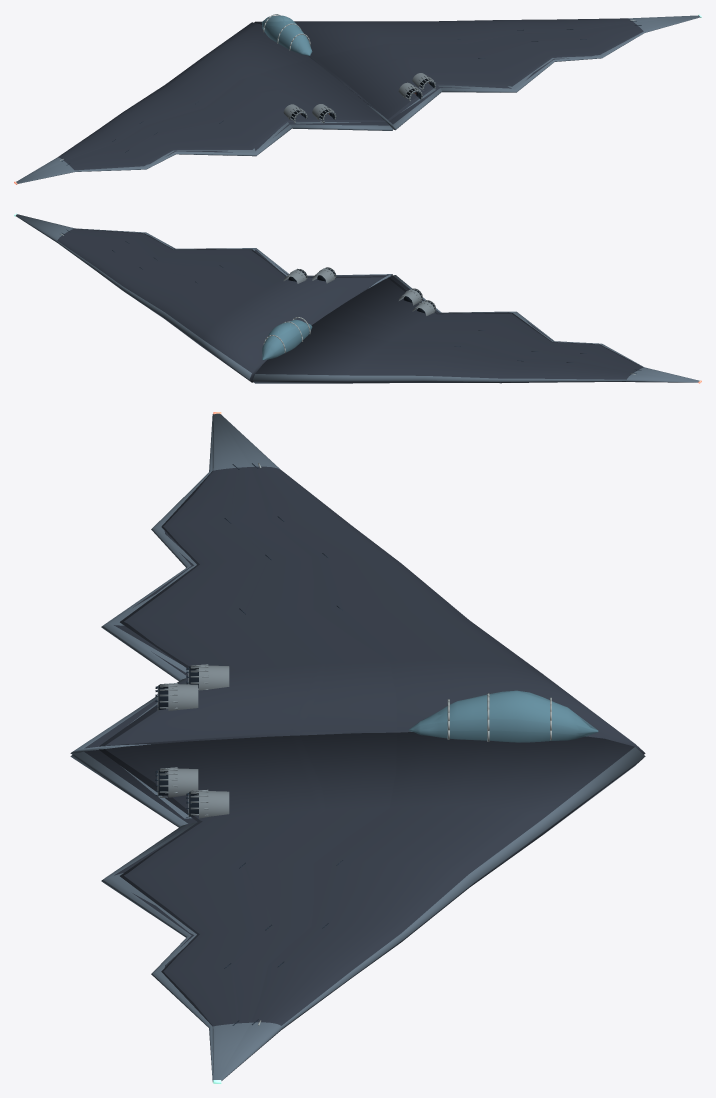
3 renders of one model, top to bottom at view 1: azimuth 30°, elevation 25°; view 2: azimuth 150°, elevation 25°; view 3: azimuth 270°, elevation 25°, orthographic. The views are drawn at different scales.
Parts seen in each view (by area): view 1: Airframe shell.001 mesh, Airframe shell mesh, Airframe shell.002 mesh, Hinged Aileron.001, Hinged Aileron, Canopy glass, Canopy glass.001, Canopy glass.002; view 2: Airframe shell mesh, Airframe shell.001 mesh, Airframe shell.002 mesh, Canopy glass, Canopy glass.001, Canopy glass.002, Hinged Aileron.001, Hinged Aileron; view 3: Airframe shell.001 mesh, Airframe shell mesh, Airframe shell.002 mesh, Canopy glass, Canopy glass.001, Canopy glass.002, Hinged Aileron, Hinged Aileron.001.
Part boxes in pixels (x1,y1,x2,y2): Airframe shell.001 mesh: (17, 15, 699, 183); Airframe shell mesh: (14, 14, 701, 184); Airframe shell.002 mesh: (21, 16, 698, 182); Hinged Aileron.001: (438, 17, 700, 92); Hinged Aileron: (17, 122, 291, 183); Canopy glass: (262, 15, 311, 55); Canopy glass.001: (262, 16, 311, 55); Canopy glass.002: (262, 16, 311, 55); Airframe shell mesh: (14, 213, 701, 383); Airframe shell.001 mesh: (17, 214, 699, 381); Airframe shell.002 mesh: (26, 216, 697, 382); Canopy glass: (262, 319, 312, 359); Canopy glass.001: (262, 320, 311, 359); Canopy glass.002: (262, 320, 310, 360); Hinged Aileron.001: (41, 220, 288, 275); Hinged Aileron: (439, 311, 676, 375); Airframe shell.001 mesh: (72, 413, 645, 1079); Airframe shell mesh: (70, 412, 645, 1083); Airframe shell.002 mesh: (99, 414, 349, 1081); Canopy glass: (409, 690, 597, 742); Canopy glass.001: (410, 690, 597, 742); Canopy glass.002: (409, 691, 597, 738); Hinged Aileron: (101, 414, 212, 680); Hinged Aileron.001: (101, 822, 212, 1081).
Size of the model in its own units: 52.53 by 3.2 by 19.08.
